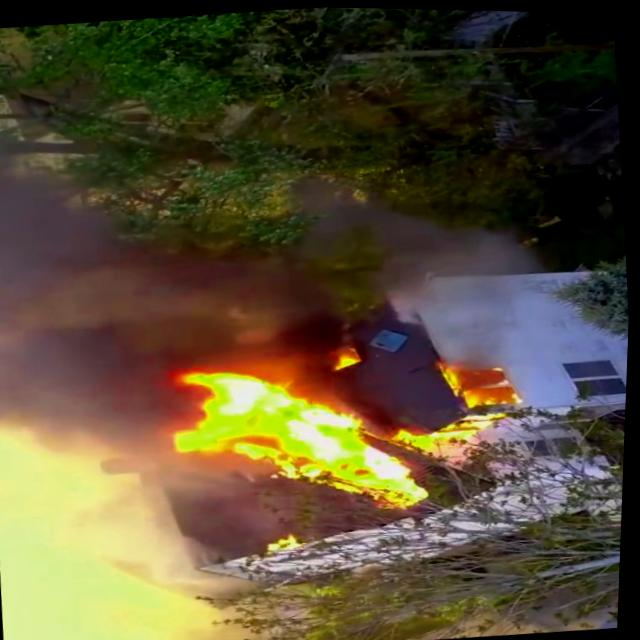fire: (191, 346, 441, 524)
